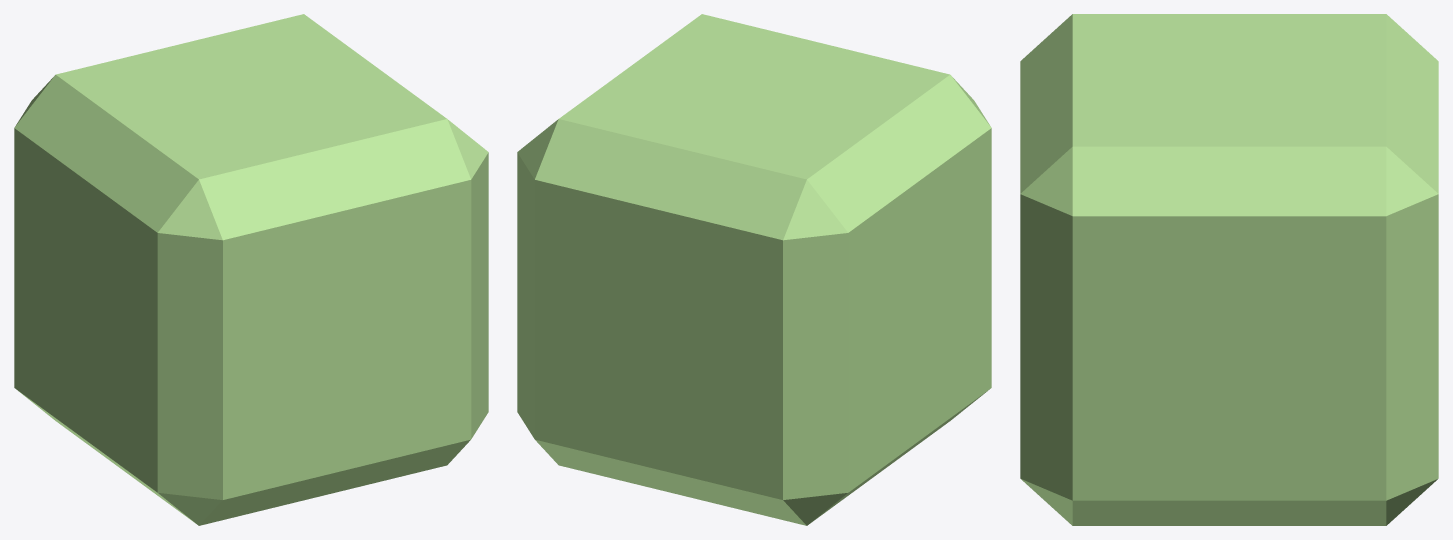
The model's file is Green.fbx.
3 renders of one model, left to right at view 1: azimuth 30°, elevation 25°; view 2: azimuth 150°, elevation 25°; view 3: azimuth 270°, elevation 25°, orthographic. The views are drawn at different scales.
Parts seen in each view (by area): view 1: Green; view 2: Green; view 3: Green.
Boxes of the visible parts, box(x1,y1,x2,y2) form: Green: box(14, 14, 488, 525); Green: box(517, 14, 991, 525); Green: box(1020, 14, 1438, 525).
Bounding box in the file's own units: 200 × 200 × 200.
